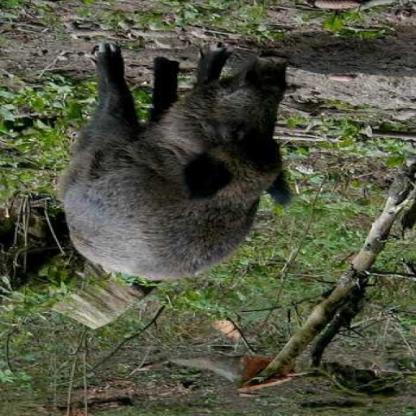boar: (58, 43, 301, 281)
